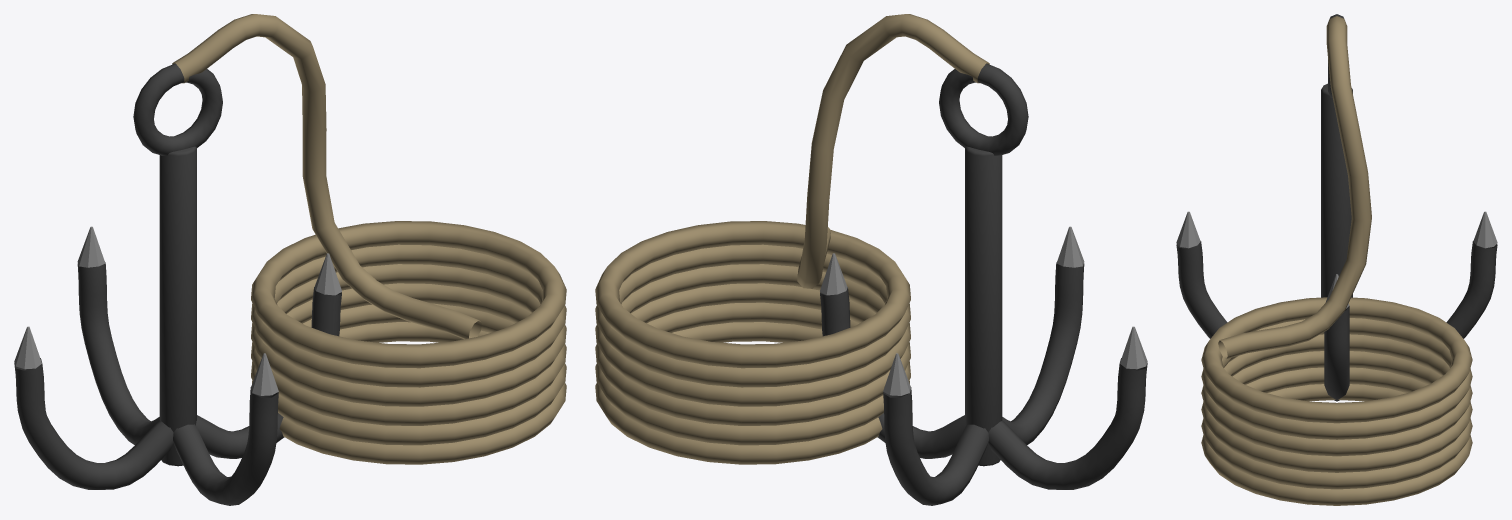
File: hook.glb
The picture shows the model from 3 angles, left to right: view 1: azimuth 30°, elevation 25°; view 2: azimuth 150°, elevation 25°; view 3: azimuth 270°, elevation 25°; orthographic projection. The views are drawn at different scales.
Parts seen in each view (by area): view 1: coil.005, rope_m, coil.004, shank, coil.003, coil.002, coil, coil.001, prong.002_m, prong.003_m, prong.001_m, eye.002 (+5 smaller); view 2: coil.005, coil.004, shank, coil.003, coil.002, rope_m, coil.001, coil, prong.002_m, prong.001_m, prong.003_m, eye.002 (+5 smaller); view 3: coil.005, rope_m, coil.002, coil.003, coil.001, coil.004, coil, shank, prong.001_m, prong.003_m, prong_m, tip.001 (+1 smaller).
Part boxes in pixels (left/top/right/bottom): coil.005: left=251, top=221, right=566, bottom=368; rope_m: left=172, top=14, right=481, bottom=339; coil.004: left=251, top=244, right=566, bottom=387; shank: left=159, top=146, right=196, bottom=466; coil.003: left=251, top=264, right=566, bottom=406; coil.002: left=251, top=283, right=566, bottom=425; coil: left=252, top=322, right=566, bottom=464; coil.001: left=251, top=303, right=566, bottom=445; prong.002_m: left=14, top=358, right=173, bottom=489; prong.003_m: left=173, top=387, right=278, bottom=505; prong.001_m: left=77, top=262, right=159, bottom=445; eye.002: left=133, top=63, right=222, bottom=155; coil.005: left=595, top=221, right=910, bottom=368; coil.004: left=595, top=244, right=910, bottom=387; shank: left=965, top=146, right=1002, bottom=466; coil.003: left=595, top=264, right=910, bottom=406; coil.002: left=595, top=283, right=910, bottom=425; rope_m: left=797, top=14, right=989, bottom=288; coil.001: left=595, top=302, right=910, bottom=445; coil: left=595, top=322, right=909, bottom=464; prong.002_m: left=988, top=358, right=1147, bottom=489; prong.001_m: left=883, top=387, right=988, bottom=505; prong.003_m: left=1002, top=262, right=1084, bottom=445; eye.002: left=939, top=63, right=1028, bottom=155; coil.005: left=1201, top=297, right=1472, bottom=423; rope_m: left=1218, top=16, right=1371, bottom=359; coil.002: left=1201, top=351, right=1472, bottom=472; coil.003: left=1201, top=334, right=1472, bottom=456; coil.001: left=1201, top=367, right=1472, bottom=489; coil.004: left=1201, top=318, right=1472, bottom=439; coil: left=1201, top=384, right=1472, bottom=505; shank: left=1321, top=83, right=1352, bottom=297; prong.001_m: left=1446, top=241, right=1497, bottom=338; prong.003_m: left=1176, top=241, right=1227, bottom=338; prong_m: left=1324, top=306, right=1349, bottom=401; tip.001: left=1473, top=211, right=1497, bottom=248.
Bounding box in the file's own units: 0.46 × 0.3644 × 0.282.
